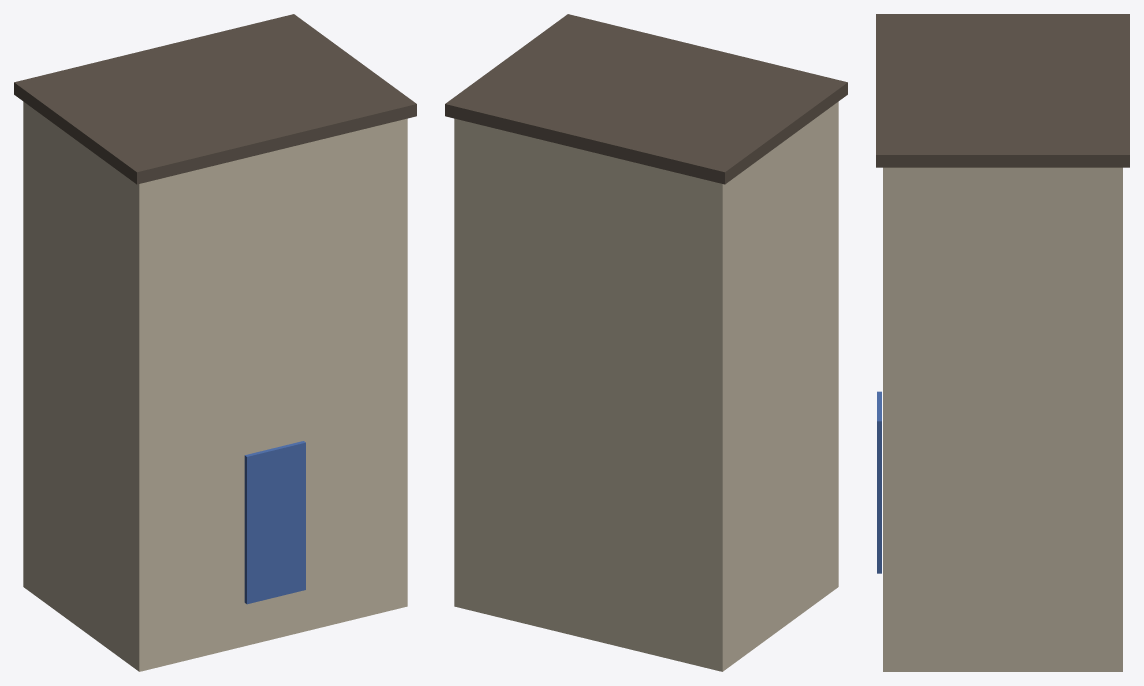
Rendered from apartment.dae.
3 renders of one model, left to right at view 1: azimuth 30°, elevation 25°; view 2: azimuth 150°, elevation 25°; view 3: azimuth 270°, elevation 25°, orthographic. The views are drawn at different scales.
Parts seen in each view (by area): view 1: main, roof, entrance; view 2: main, roof; view 3: main, roof, entrance.
Boxes of the visible parts, box(x1,y1,x2,y2) form: main: box(23, 101, 407, 671); roof: box(14, 14, 416, 184); entrance: box(244, 441, 305, 604); main: box(454, 101, 838, 671); roof: box(445, 14, 847, 184); main: box(883, 167, 1122, 671); roof: box(876, 14, 1129, 167); entrance: box(877, 391, 881, 573).
Size of the model in its own units: 16.7 by 12.7 by 28.7.
